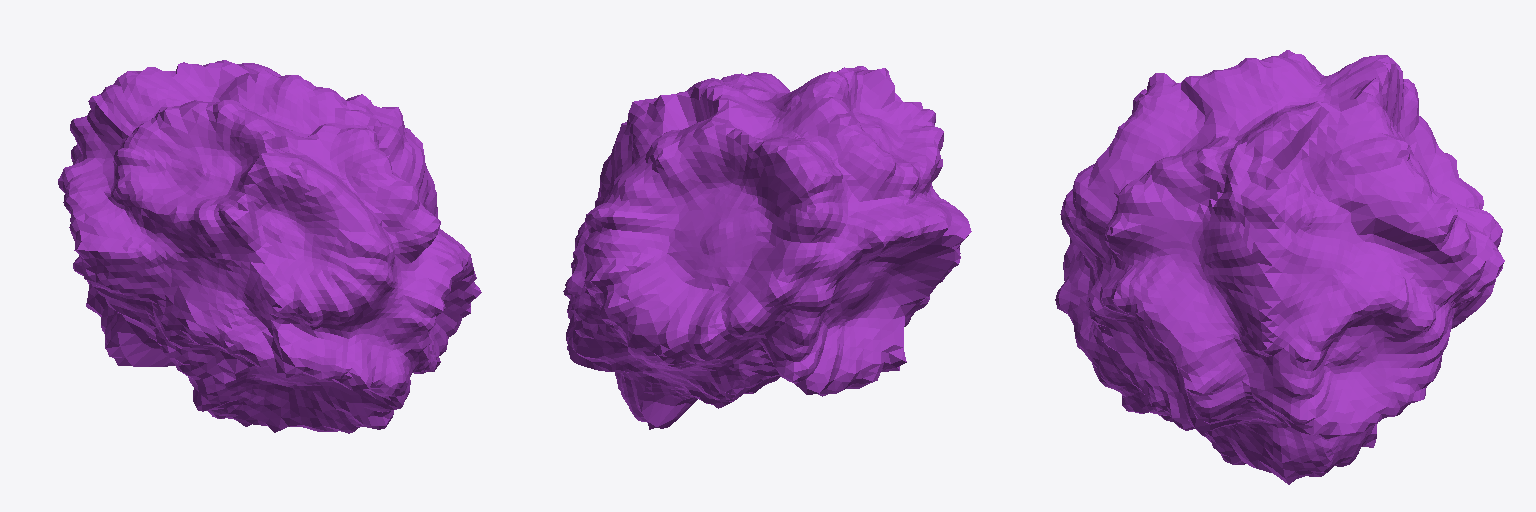
File: outside_ball_coral.obj
3 renders of one model, left to right at view 1: azimuth 30°, elevation 25°; view 2: azimuth 150°, elevation 25°; view 3: azimuth 270°, elevation 25°, orthographic.
Visible parts, largest first — view 1: Outside_ball_coral; view 2: Outside_ball_coral; view 3: Outside_ball_coral.
Boxes of the visible parts, x1=… form: Outside_ball_coral: x1=58, y1=60, x2=481, y2=433; Outside_ball_coral: x1=563, y1=66, x2=971, y2=429; Outside_ball_coral: x1=1055, y1=50, x2=1504, y2=484.
Bounding box in the file's own units: 0.2457 × 0.2152 × 0.25.